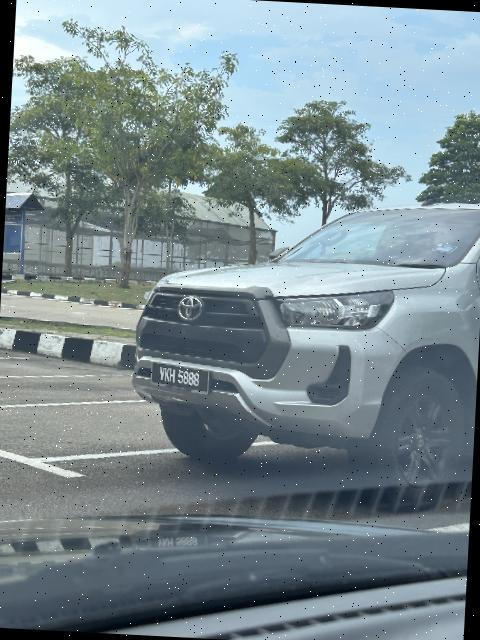License_Plate: (149, 361, 218, 402)
VKH5888: (149, 361, 218, 402)
car: (127, 186, 480, 499)
